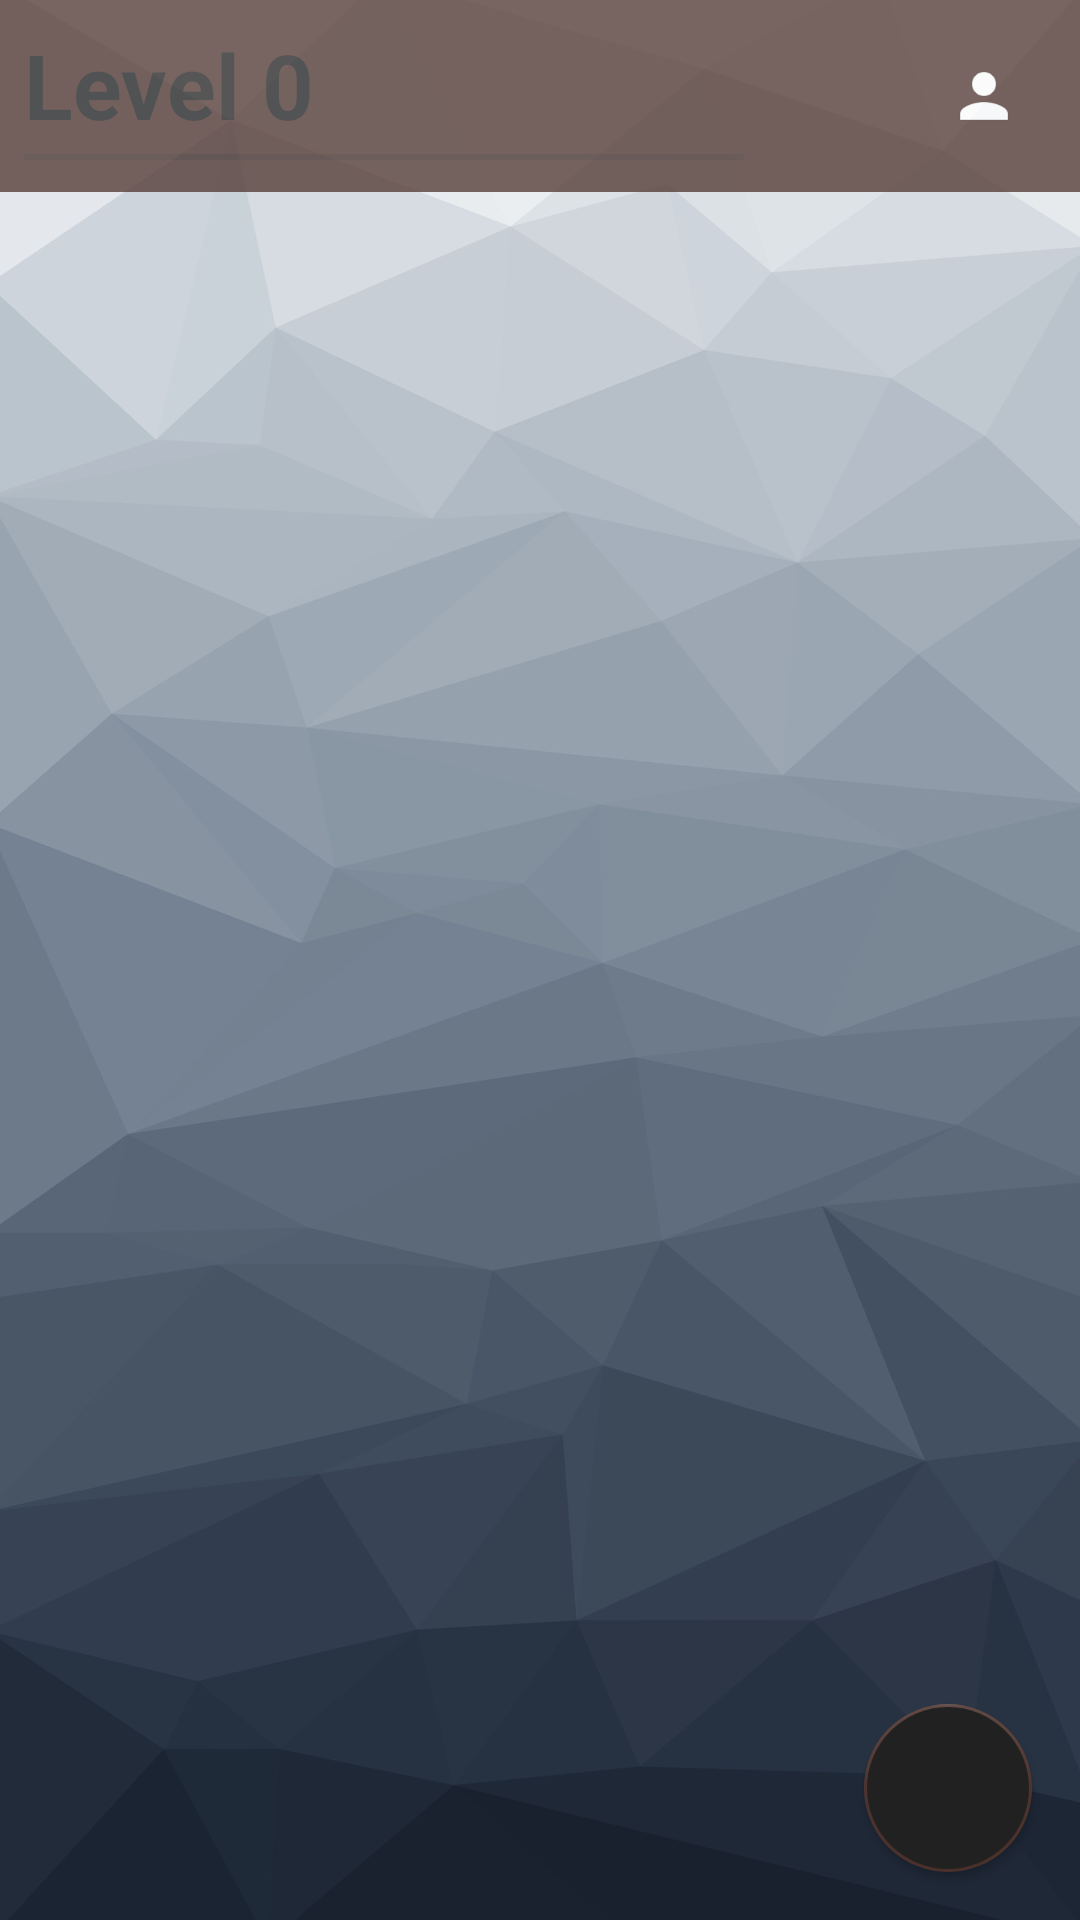

Icons on this 1080px×1920px Android screen, each with its box as [left=x1, top=y1, right=x2, bottom=y2]:
person: [left=960, top=72, right=1008, bottom=120]
